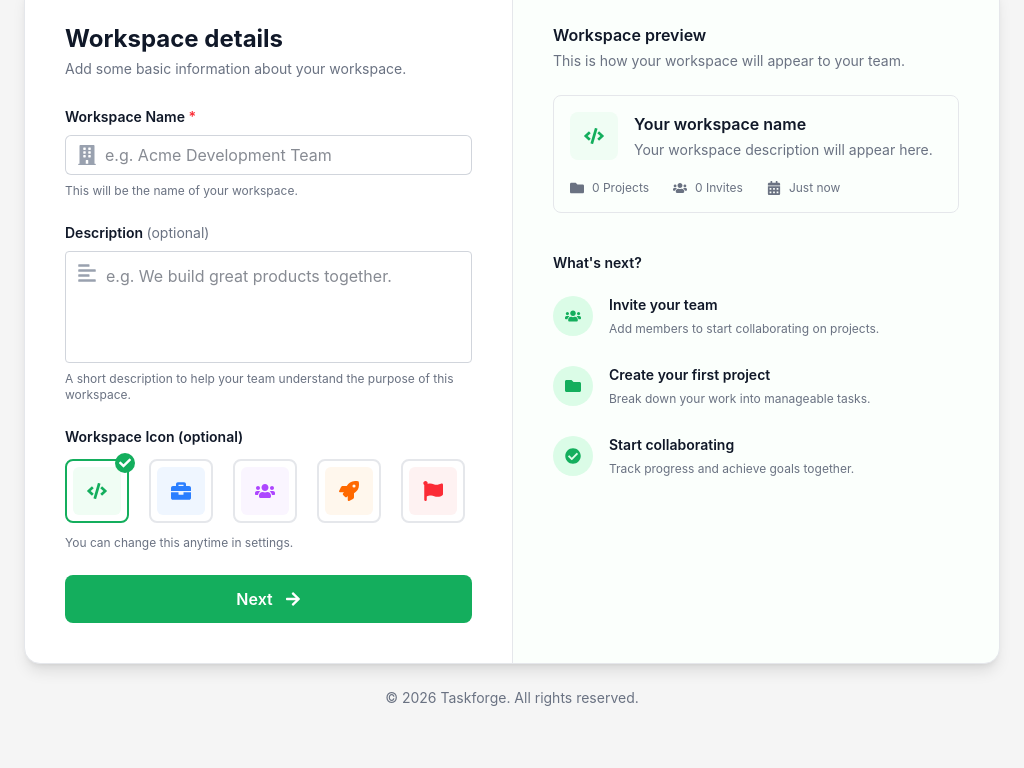
it: Create workspace page › validates workspace details before moving to invites
The width and height of the screenshot is (1024, 768).
(page scrolled)
Click the button "Next" at (268, 599), box [65, 575, 472, 623]
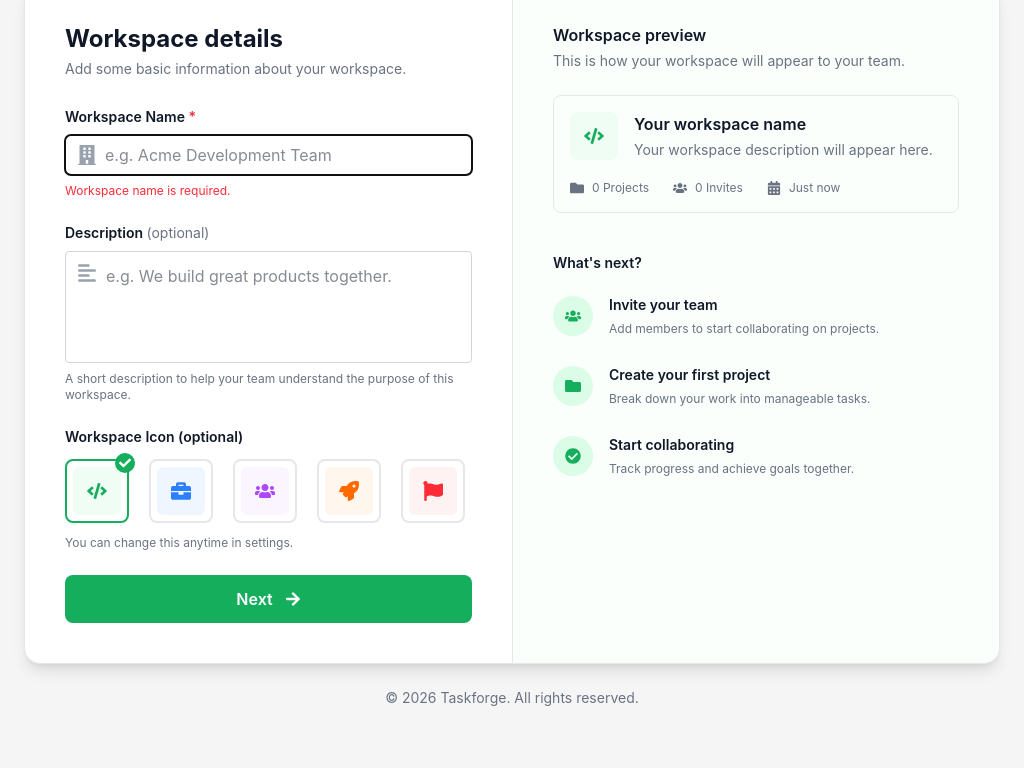
Expected: the heading "Workspace details" is shown, [65, 24, 283, 53]
Expected: the text "Workspace name is required." is shown, [65, 183, 231, 198]
